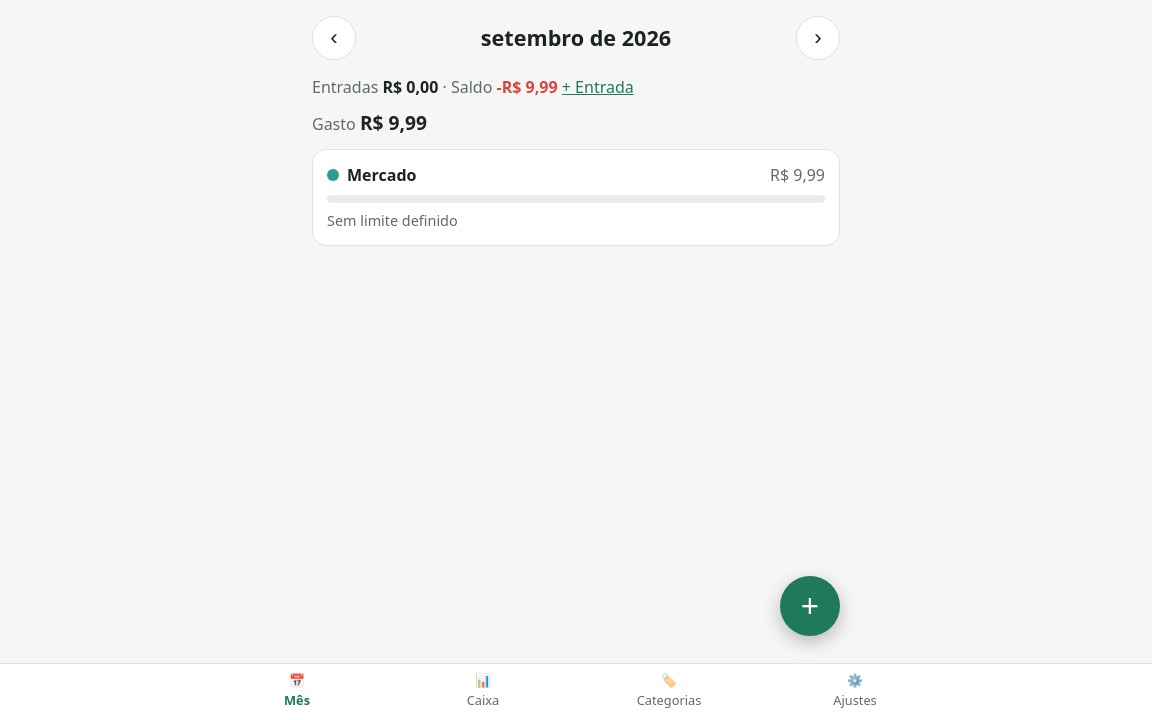
Test case: tela do mês › navega para o mês anterior e abre o detalhe da categoria
The width and height of the screenshot is (1152, 720).
Click the button named "Mês anterior" at (334, 38), box [312,16,356,60]
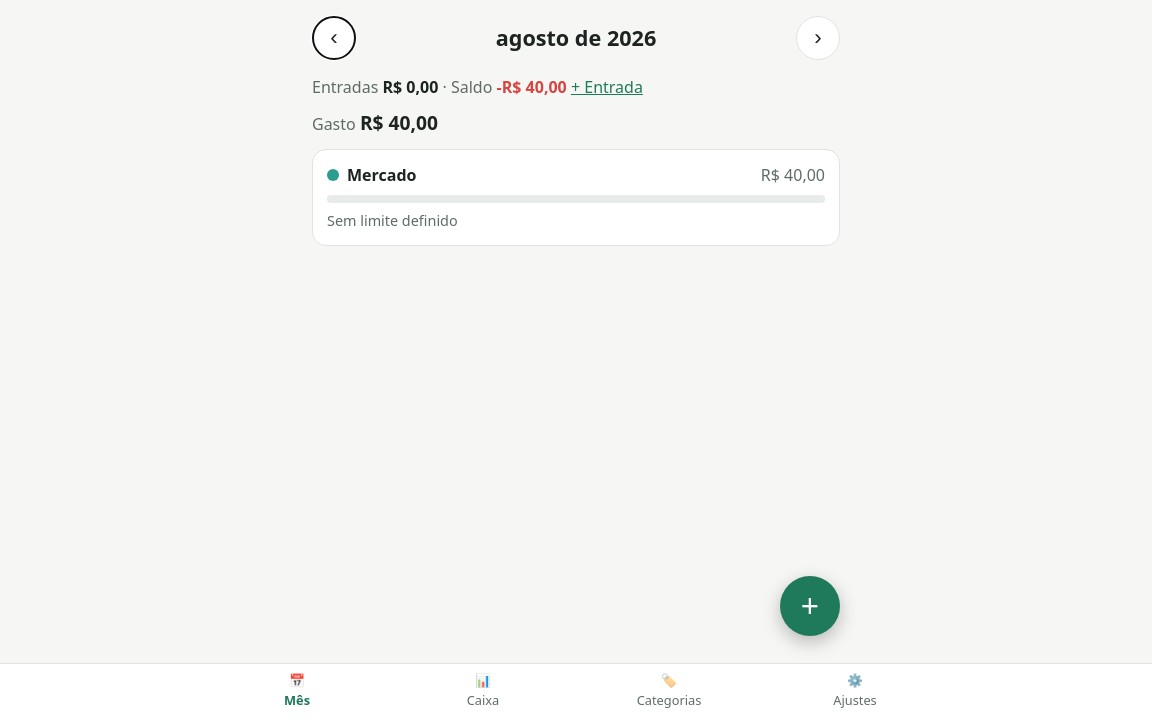
Expected: the heading "agosto de 2026" is shown, [496,23,656,53]
Expected: the text "Gasto R$ 40,00" is shown, [312,109,438,136]
Click the text "Mercado" at (372, 176), box [327,164,416,187]
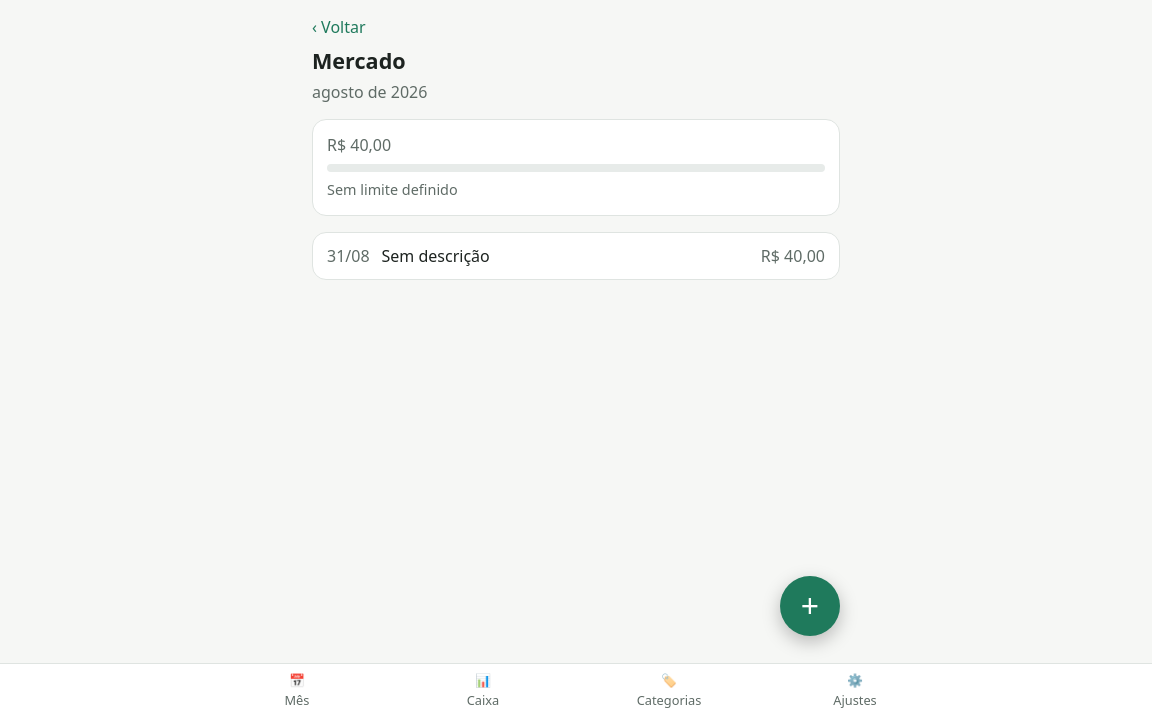
Expected: the heading "Mercado" is shown, [312,46,406,75]
Expected: the text "31/08" is shown, [327,244,370,267]
